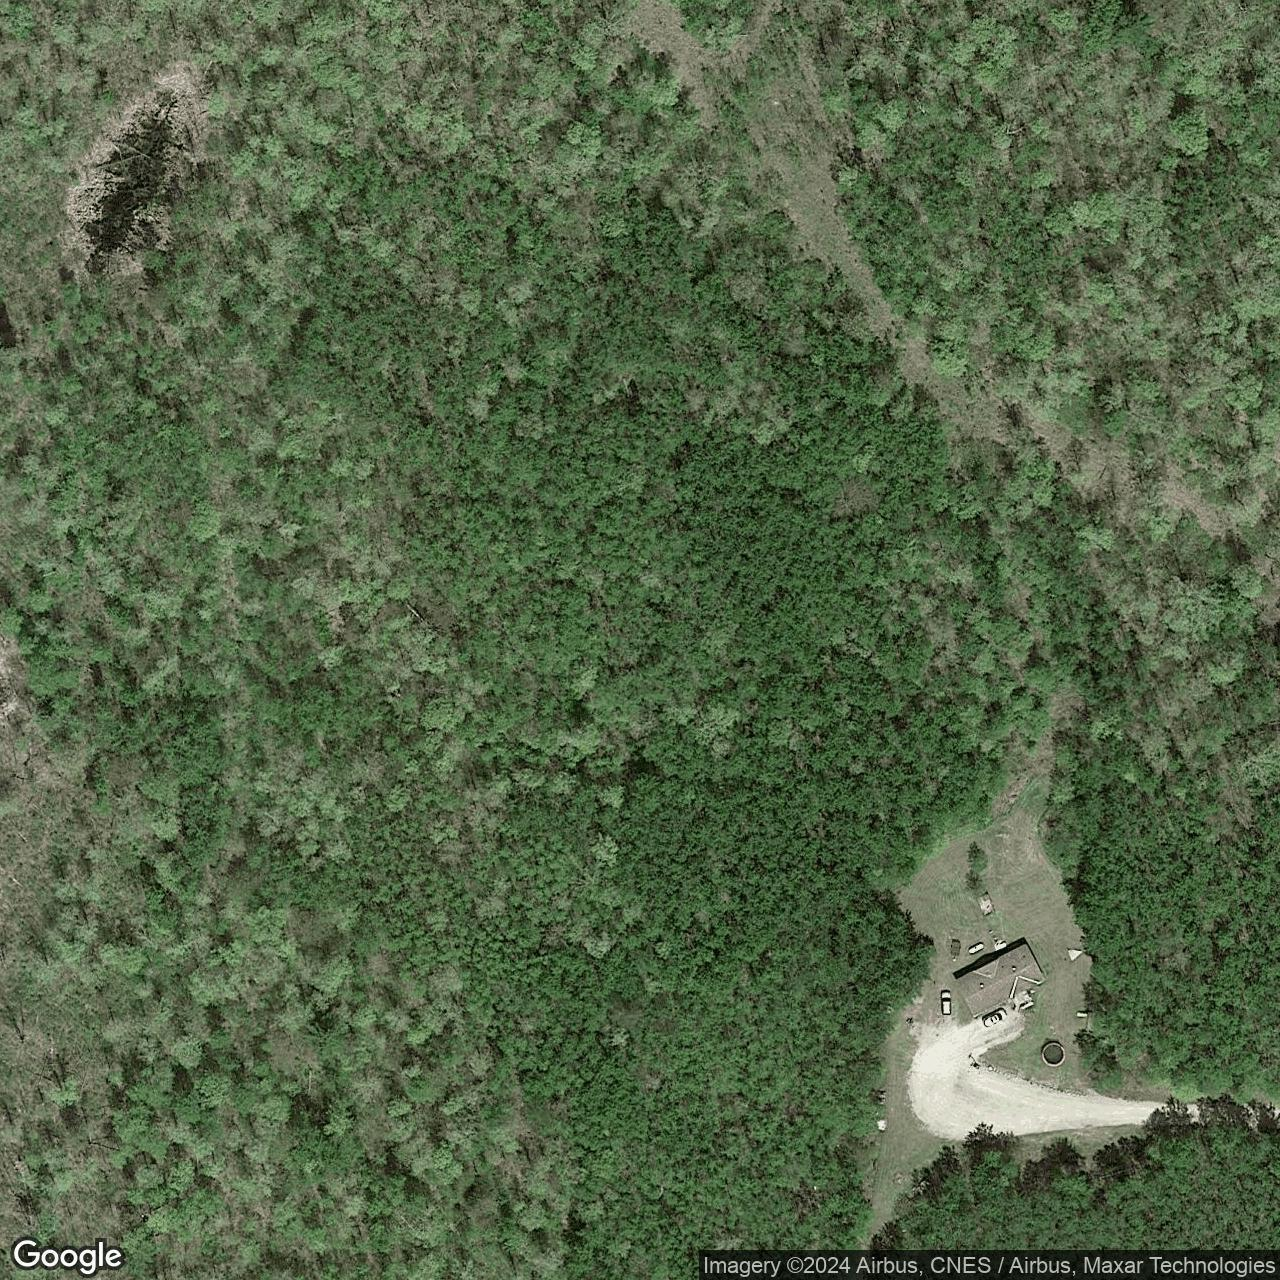House: (952, 940, 1049, 1020)
Propane: (966, 939, 988, 958)
